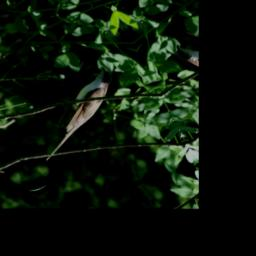Cuckoo: (8, 65, 144, 162)
